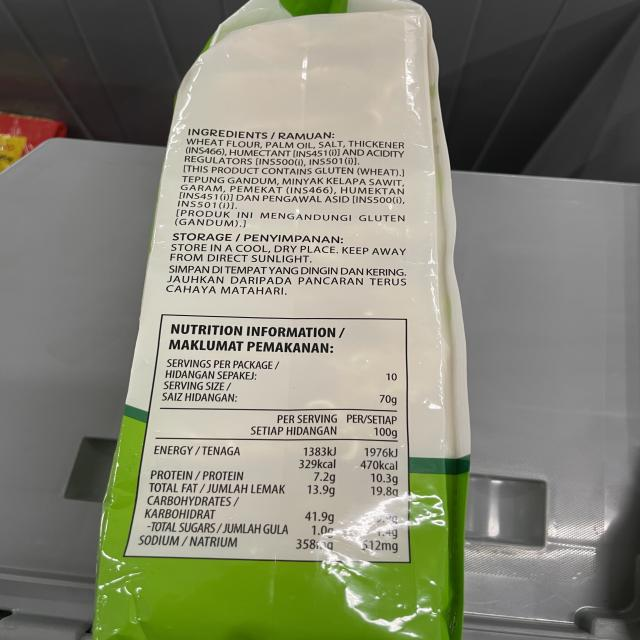object_name: (155, 11, 440, 640)
